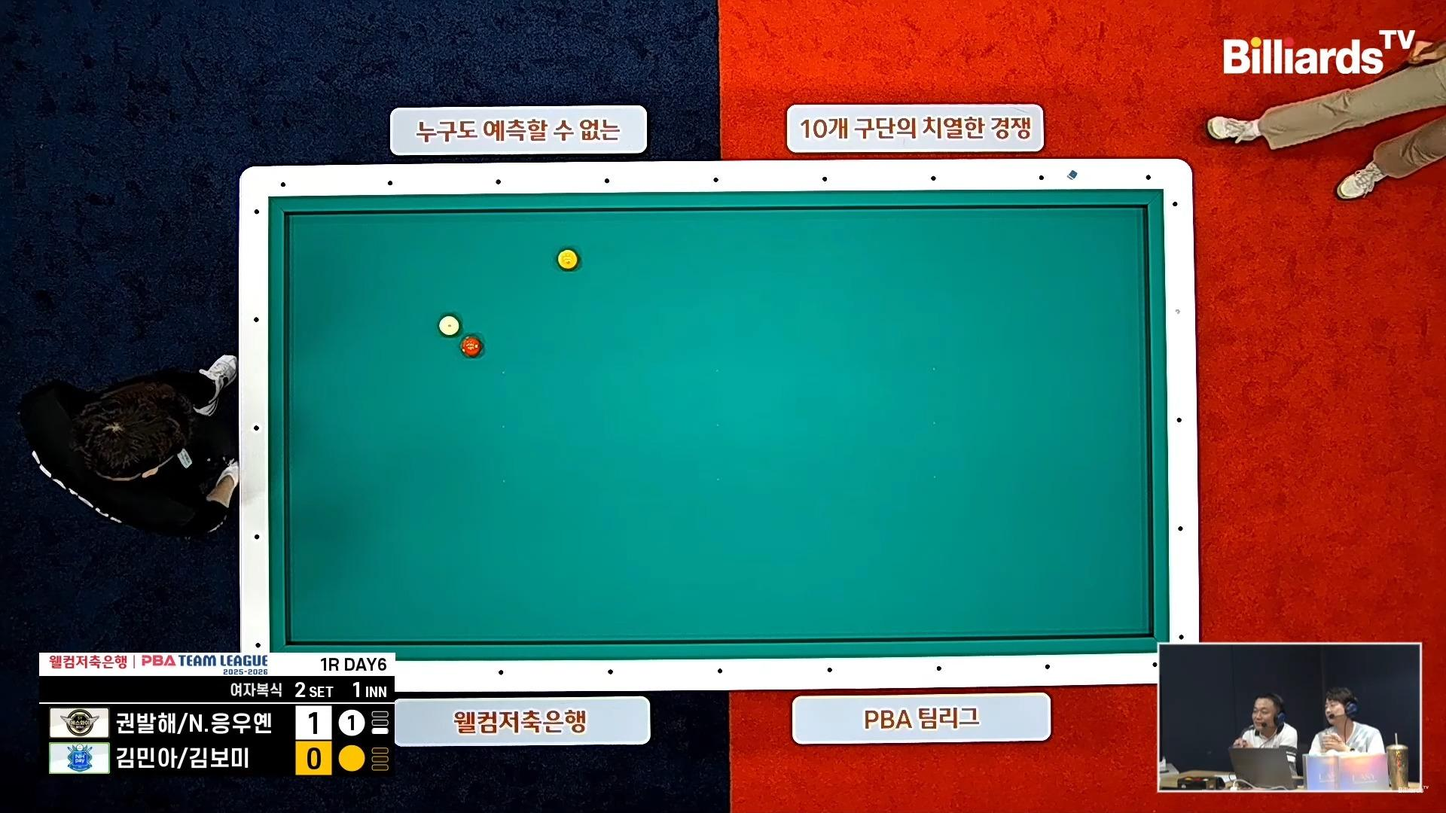billiard-ball-Red: (460, 334, 485, 358)
billiard-ball-Yellow: (555, 243, 583, 273)
billiard-ball-white: (437, 309, 459, 337)
